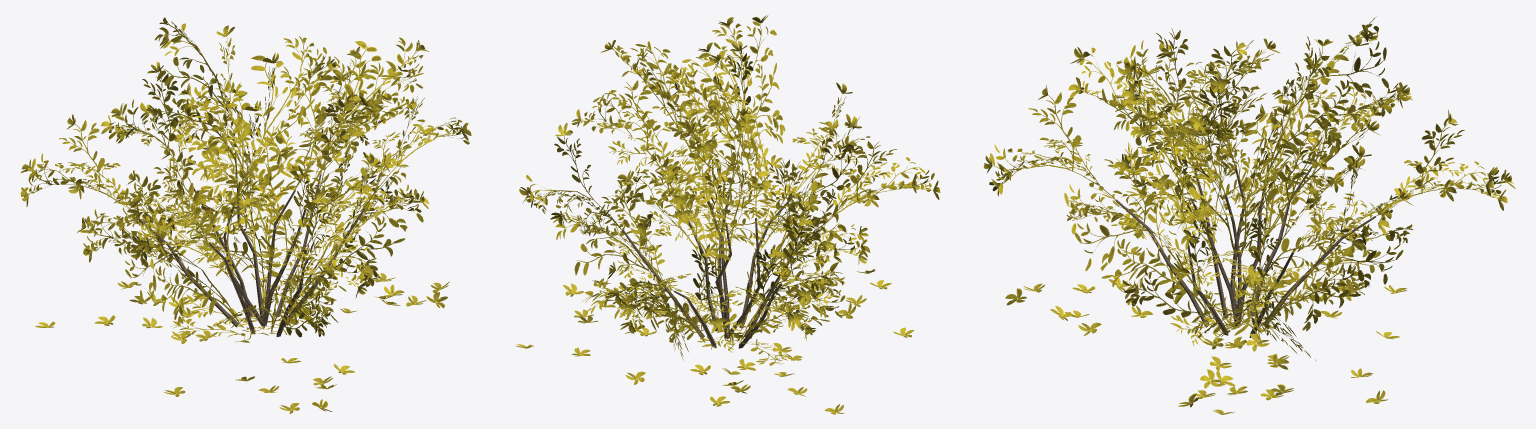
The model's file is Bush_Desktop.fbx.
3 views of the same model, side by side, from view 1: azimuth 30°, elevation 25°; view 2: azimuth 150°, elevation 25°; view 3: azimuth 270°, elevation 25° (orthographic). The views are drawn at different scales.
Visible parts, largest first — view 1: LOD0; view 2: LOD0; view 3: LOD0.
Boxes of the visible parts, bbox=[...] form: LOD0: bbox=[20, 17, 471, 413]; LOD0: bbox=[515, 15, 940, 414]; LOD0: bbox=[983, 16, 1515, 414].
Size of the model in its own units: 183 by 140 by 220.
